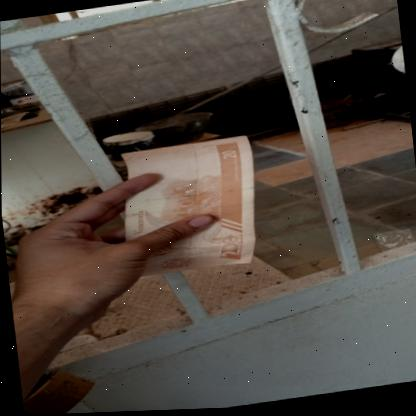twenty-back-vef: (113, 134, 263, 281)
